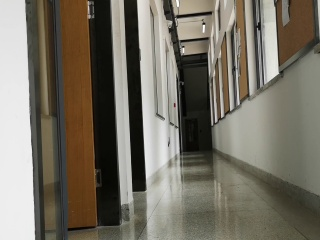room: (23, 3, 124, 234)
